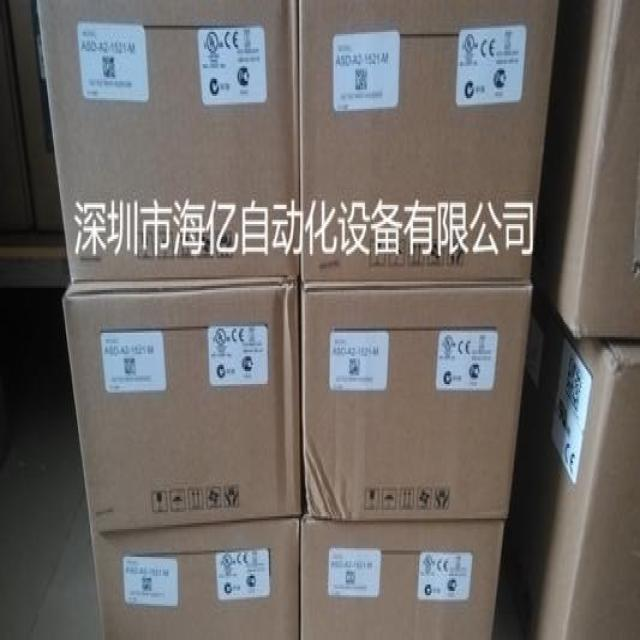box: (36, 0, 300, 282), (298, 0, 557, 279), (64, 276, 301, 531), (300, 278, 534, 519), (91, 515, 300, 638), (299, 516, 504, 638)
